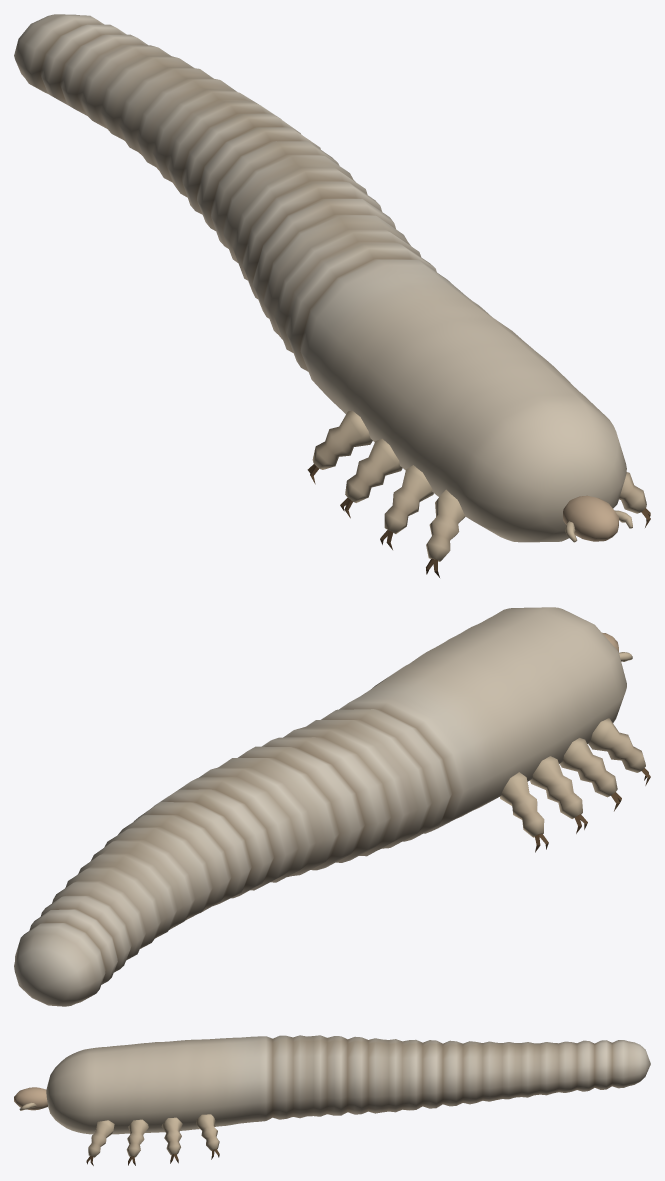
File: FollicleMite.fbx
The picture shows the model from 3 angles, top to bottom: view 1: azimuth 30°, elevation 25°; view 2: azimuth 150°, elevation 25°; view 3: azimuth 270°, elevation 25°; orthographic projection. The views are drawn at different scales.
Visible parts, largest first — view 1: FollicleMite; view 2: FollicleMite; view 3: FollicleMite.
Boxes of the visible parts, x1,y1,x2,y2 form: FollicleMite: (14,14,650,577); FollicleMite: (14,607,650,1006); FollicleMite: (14,1035,650,1165).
Bounding box in the file's own units: 0.4058 × 0.2984 × 1.68.
